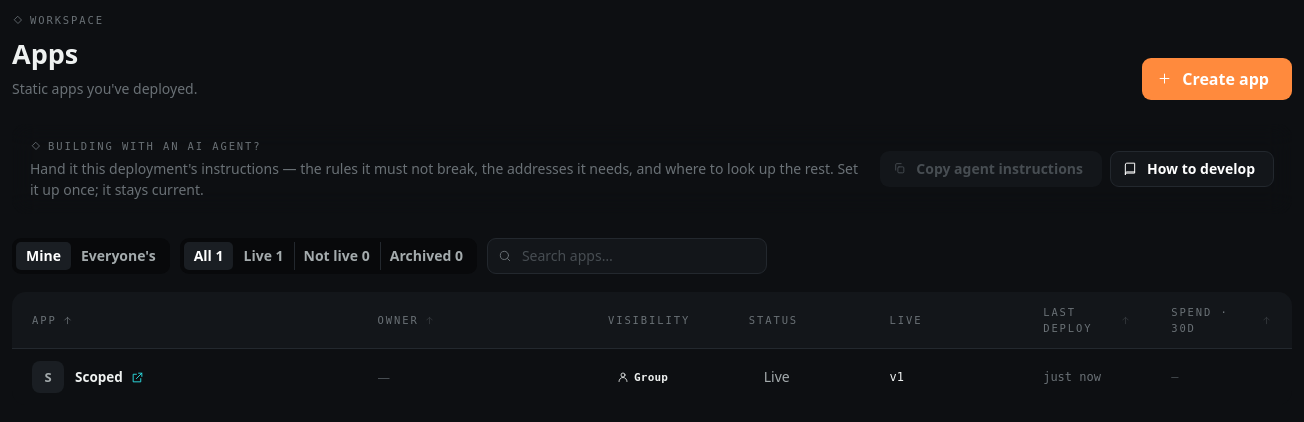
Test case: AppsListPage › visibility column › names the groups on hover, and keeps the ids beside them
Expected: the text "Scoped" is shown, [75,367,123,388]
Expected: the cell "Group" is shown, [588,349,729,406]
Hover over the element showing "Group": (643, 377) [617,371,668,384]
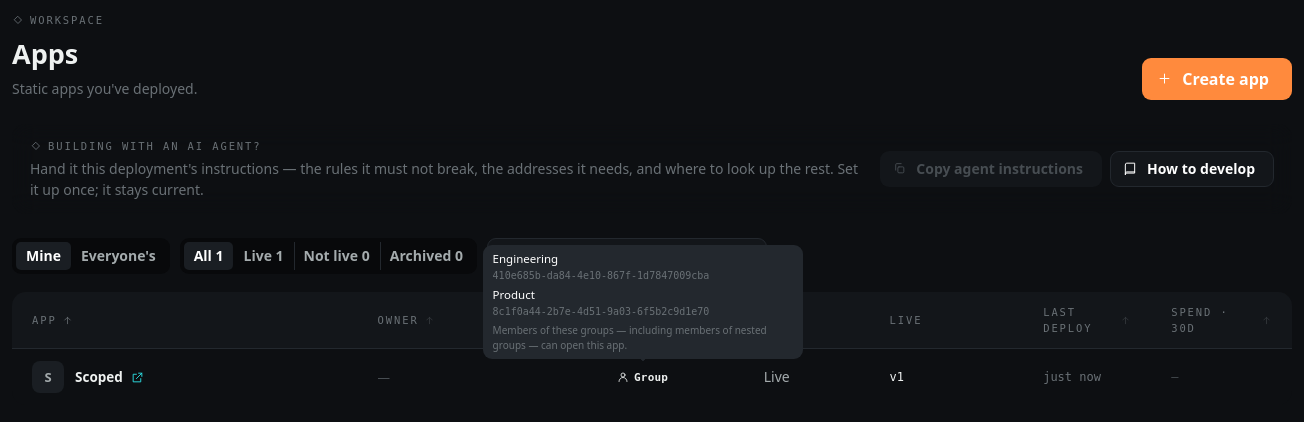
Result: the text "Engineering" is shown at [493,251,558,266]
Result: the text "Product" is shown at [493,287,535,302]
Result: the text "410e685b-da84-4e10-867f-1d7847009cba" is shown at [493,270,709,281]
